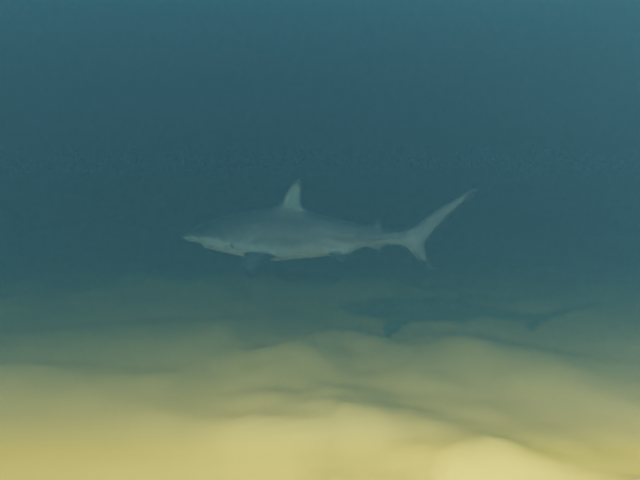Carribean Shark.001: (182, 177, 478, 278)
